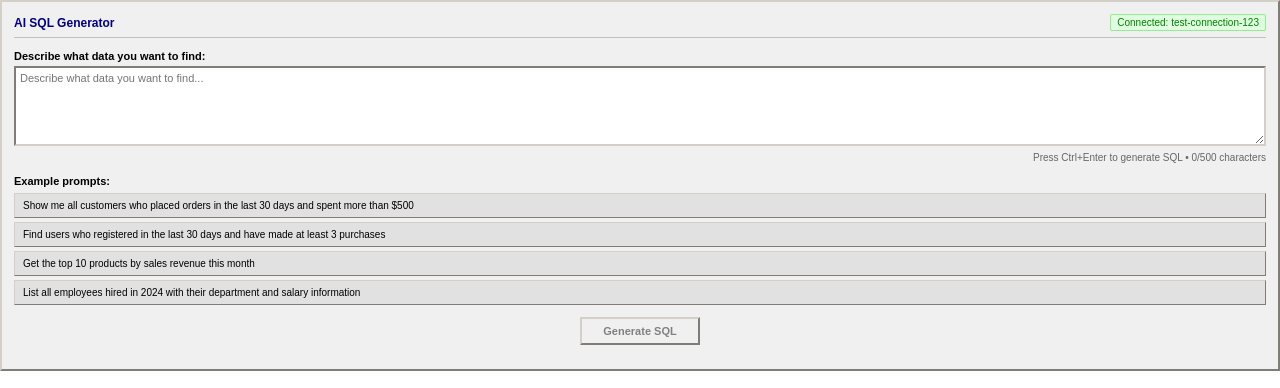
Scenario: AIQueryGenerator › User Input Handling › shows character count
The image size is (1280, 388).
Type "Test prompt" into the text box labelled "Describe what data you want to find:". click: (640, 106)
box: x1=14 y1=66 x2=1266 y2=146
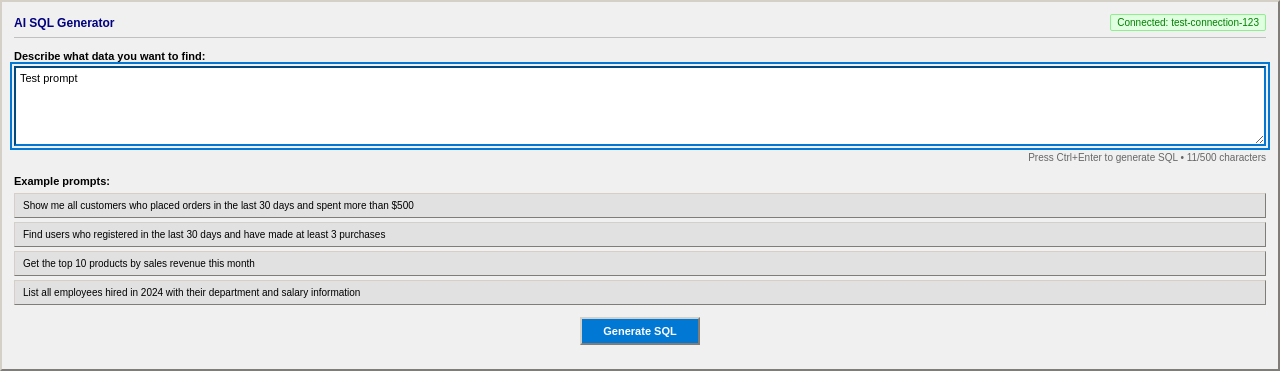
Now the text "Press Ctrl+Enter to generate SQL • 11/500 characters" is shown, box x1=1028 y1=152 x2=1266 y2=163
